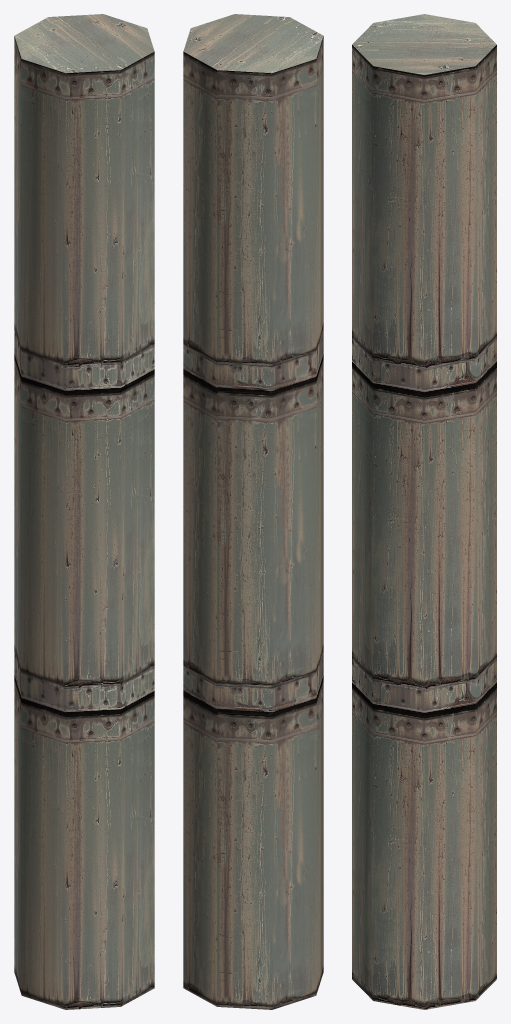
File: pipe_long2.fbx
The picture shows the model from 3 angles, left to right: view 1: azimuth 30°, elevation 25°; view 2: azimuth 150°, elevation 25°; view 3: azimuth 270°, elevation 25°; orthographic projection.
Parts seen in each view (by area): view 1: Mesh Object; view 2: Mesh Object; view 3: Mesh Object.
Boxes of the visible parts, x1,y1,x2,y2 form: Mesh Object: (14,14,154,1009); Mesh Object: (183,14,323,1009); Mesh Object: (352,14,496,1009).
Size of the model in its own units: 0.6259 by 4.46 by 0.6259.
